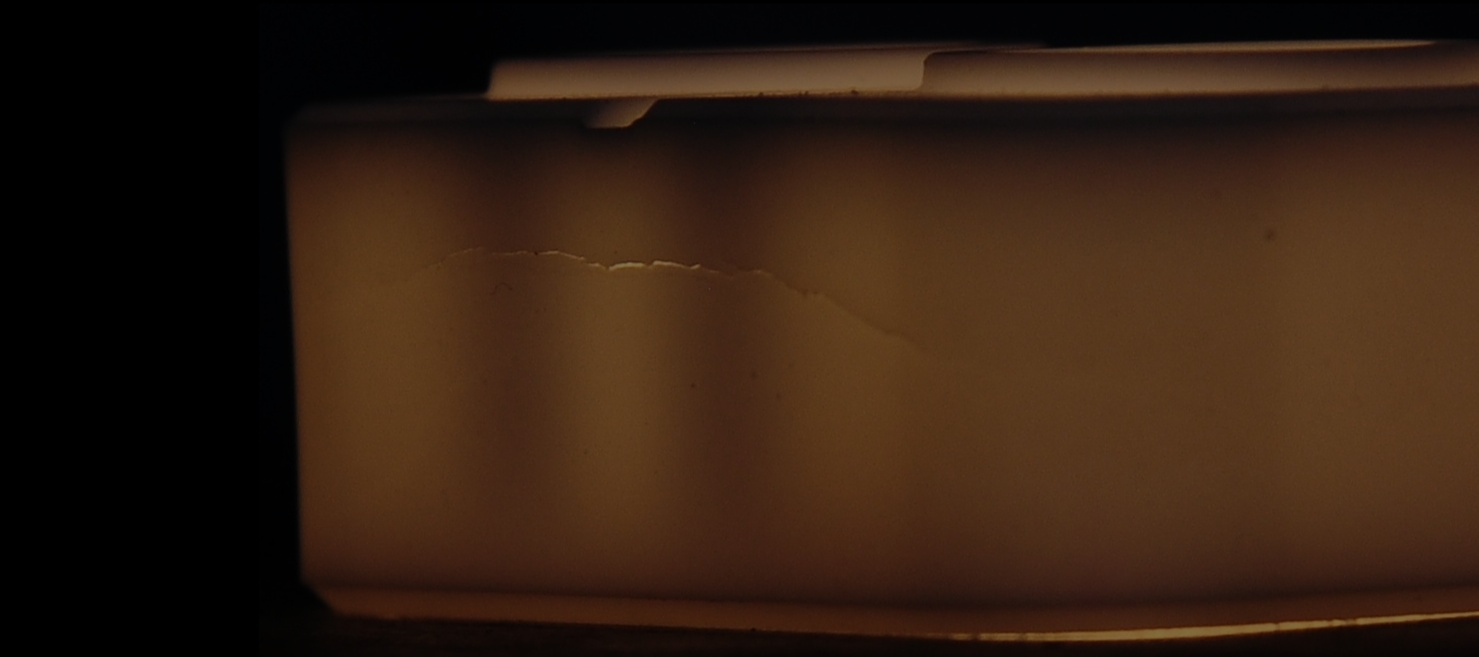flaw: (318, 229, 957, 377)
